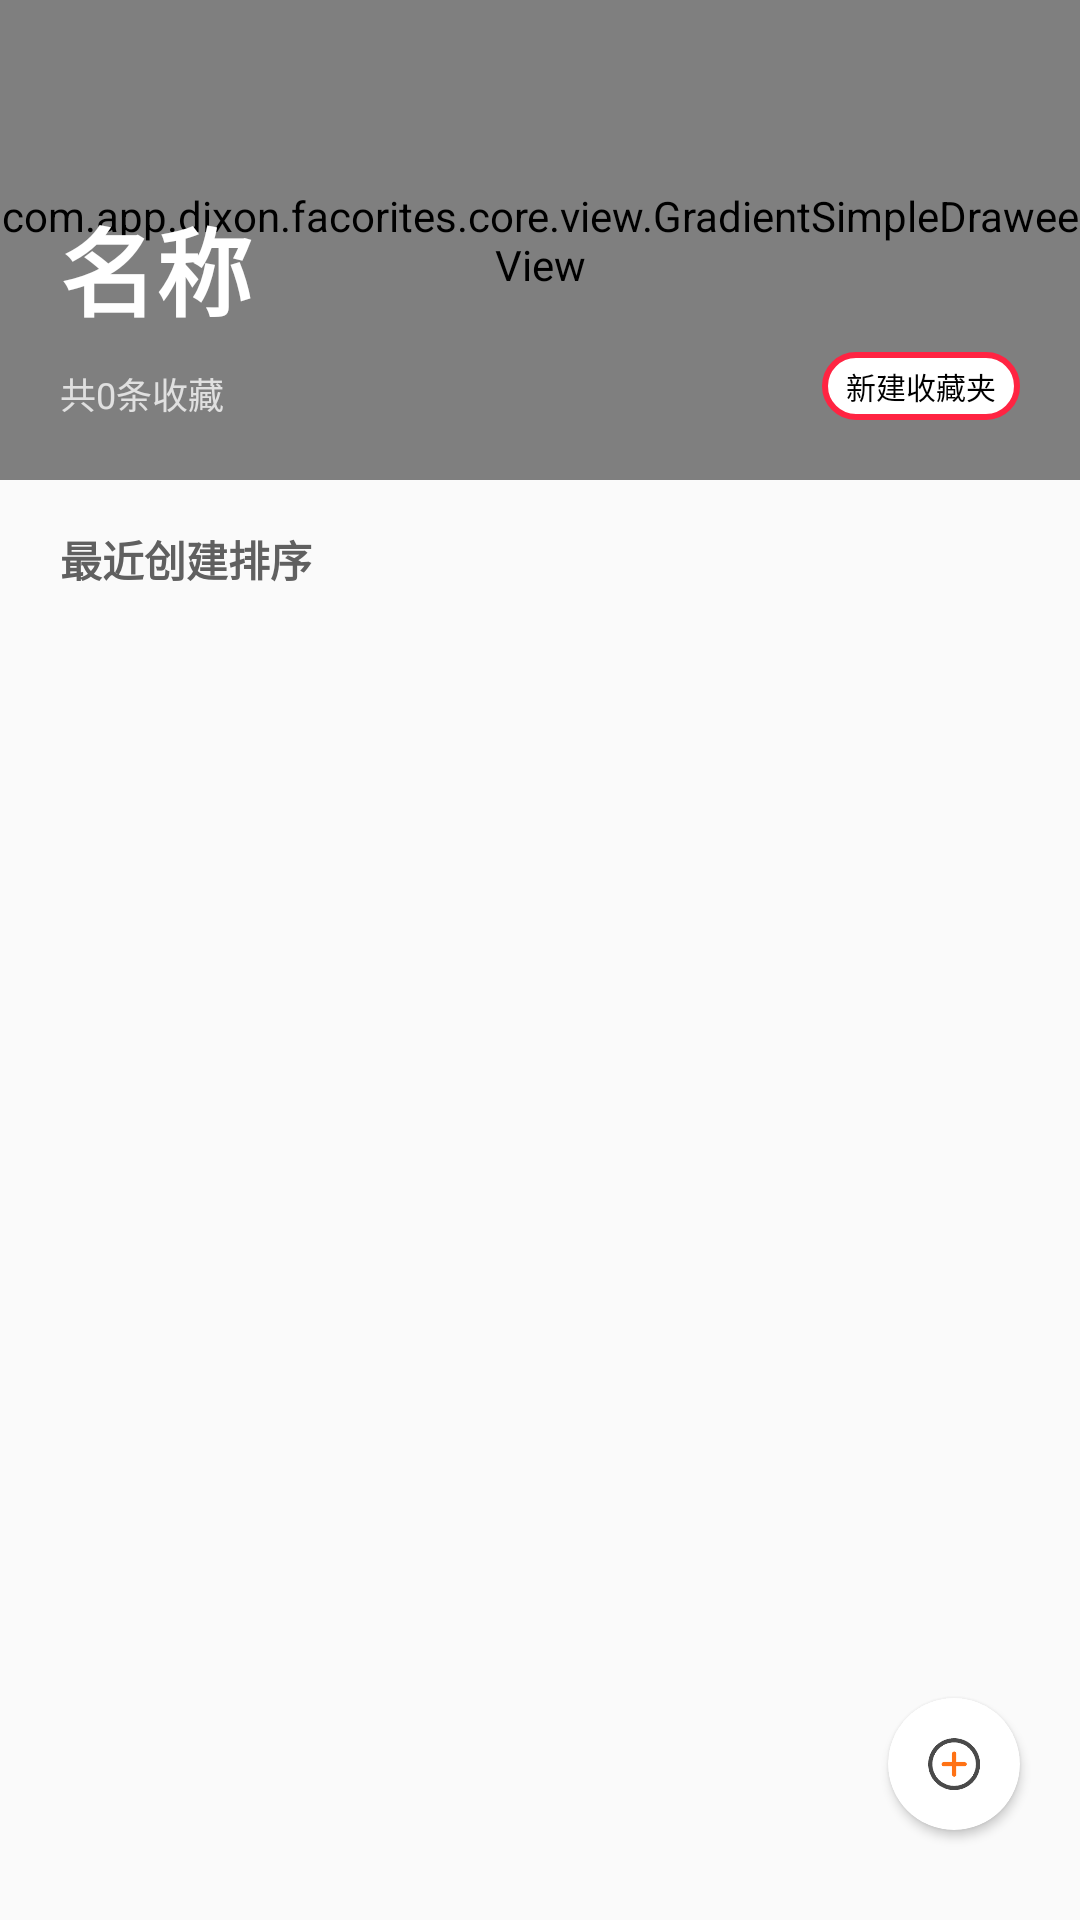

Icons on this 1080px×1920px Android screen, each with the point to tap as (x,y):
add: (954,1764)
